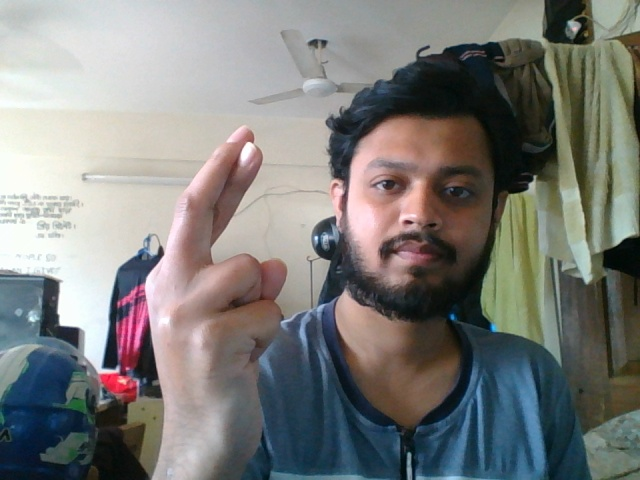r: (145, 119, 297, 473)
